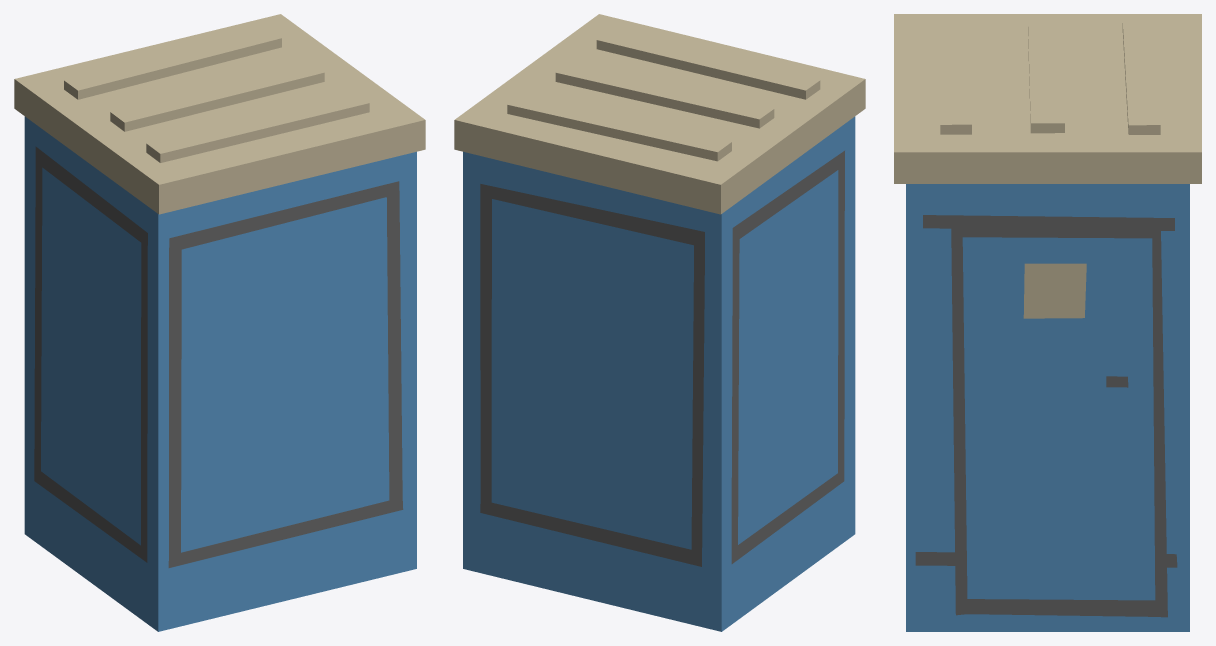
3 views of the same model, side by side, from view 1: azimuth 30°, elevation 25°; view 2: azimuth 150°, elevation 25°; view 3: azimuth 270°, elevation 25° (orthographic). The views are drawn at different scales.
Visible parts, largest first — view 1: Cube_1; view 2: Cube_1; view 3: Cube_1.
Part boxes in pixels (x1,y1,x2,y2): Cube_1: [14, 14, 425, 631]; Cube_1: [454, 14, 865, 631]; Cube_1: [894, 14, 1201, 631].
Size of the model in its own units: 136 by 226 by 128.
